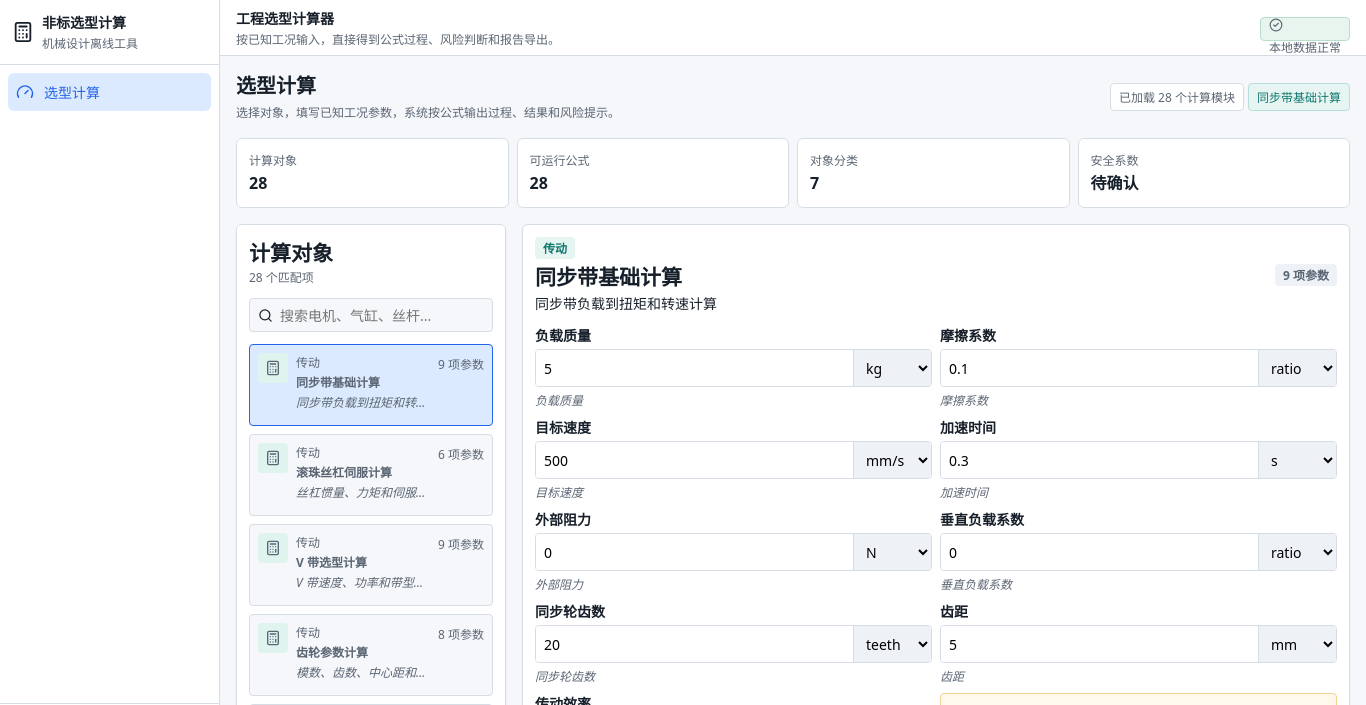
Test: 驱动与线性传动计算 › 在选型计算中完成滚珠丝杠伺服计算且不展示 PDF 来源
Check: the text "本地数据正常" is shown, box [1269,38,1341,56]
Step 1. Type "丝杠" into the field named "搜索计算对象" → (381, 315), box [278,304,484,326]
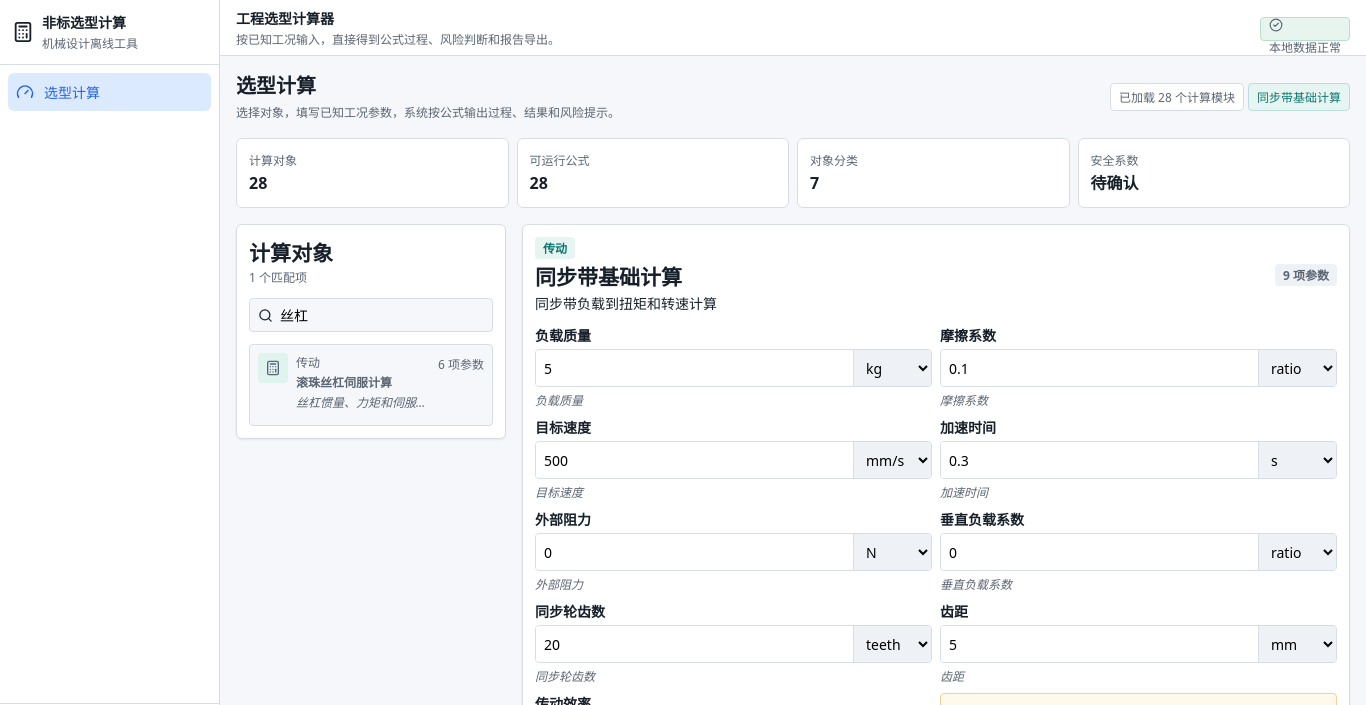
Step 2. Click the button "传动 滚珠丝杠伺服计算 丝杠惯量、力矩和伺服转速 6 项参数" → (371, 385), box [249,344,493,426]
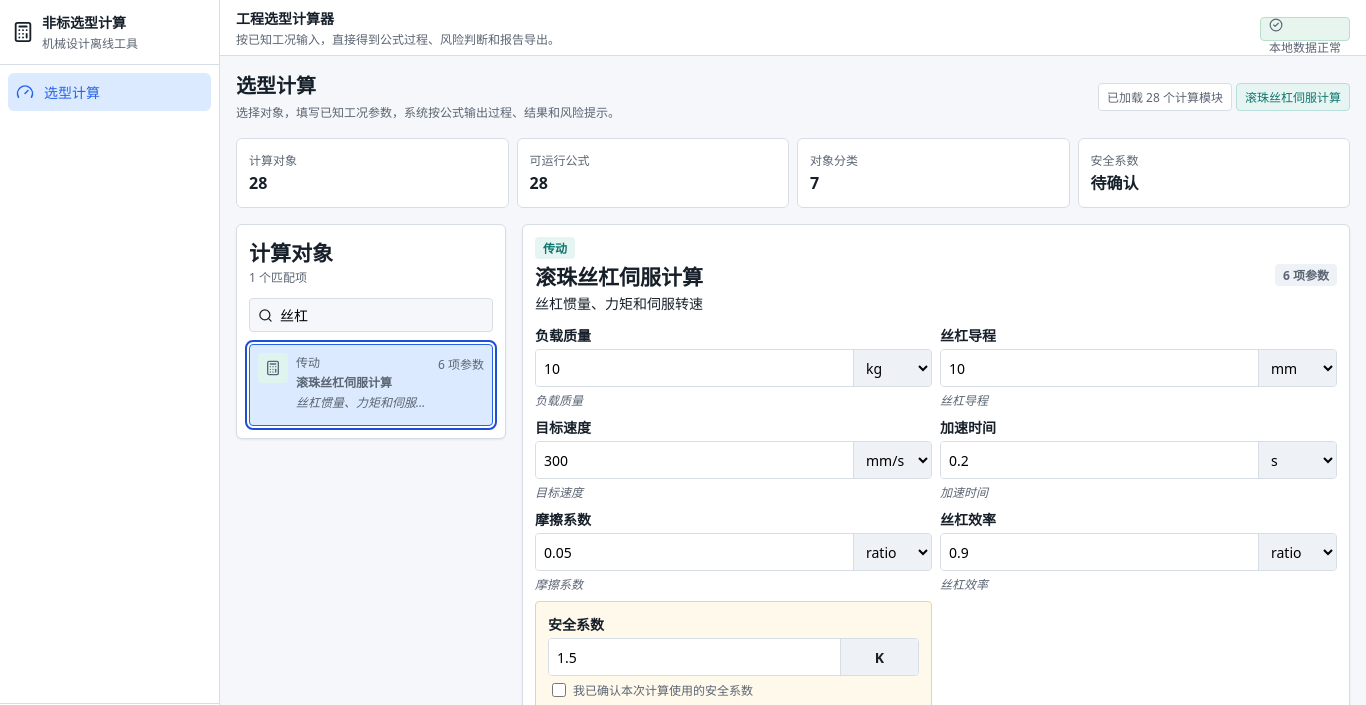
Check: the heading "滚珠丝杠伺服计算" is shown, box [535,261,703,291]
Step 3. Click the checkbox labelled "我已确认本次计算使用的安全系数" → (559, 690), box [552,683,566,697]
(page scrolled)
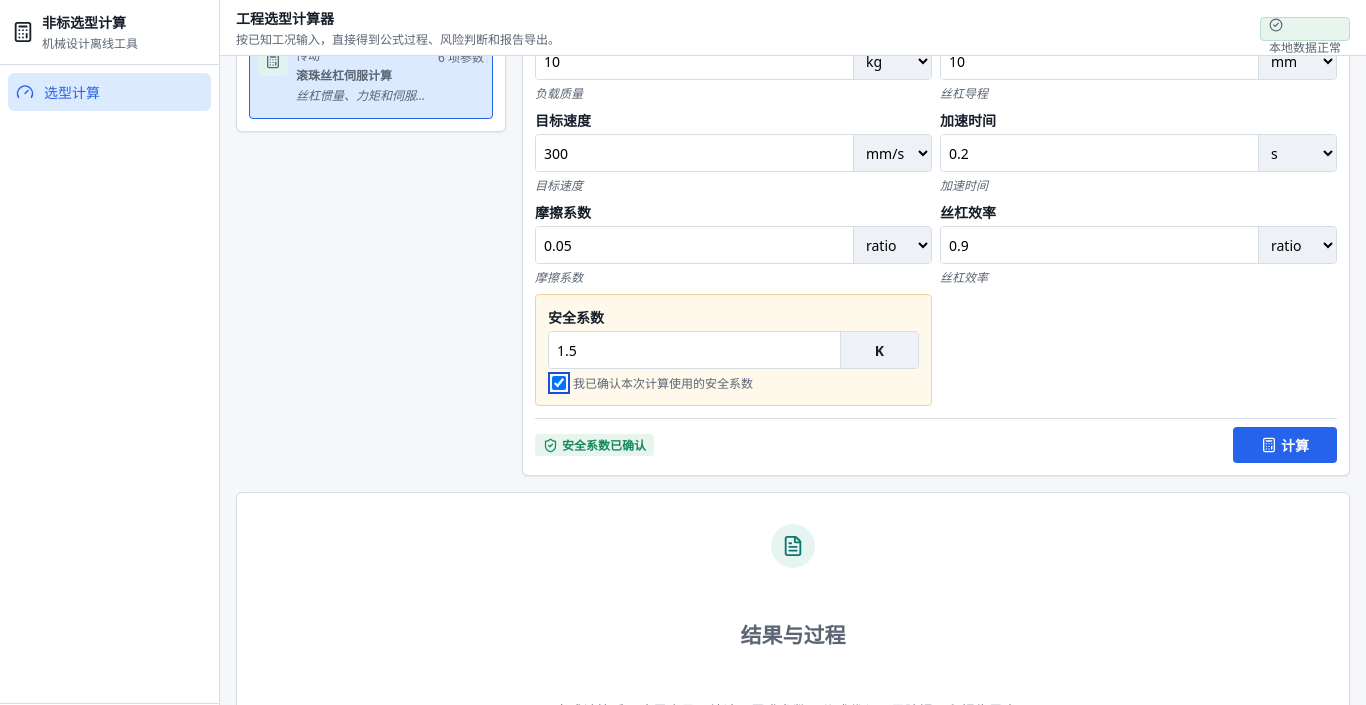
Step 4. Click the button "计算" → (1285, 445), box [1233,427,1337,463]
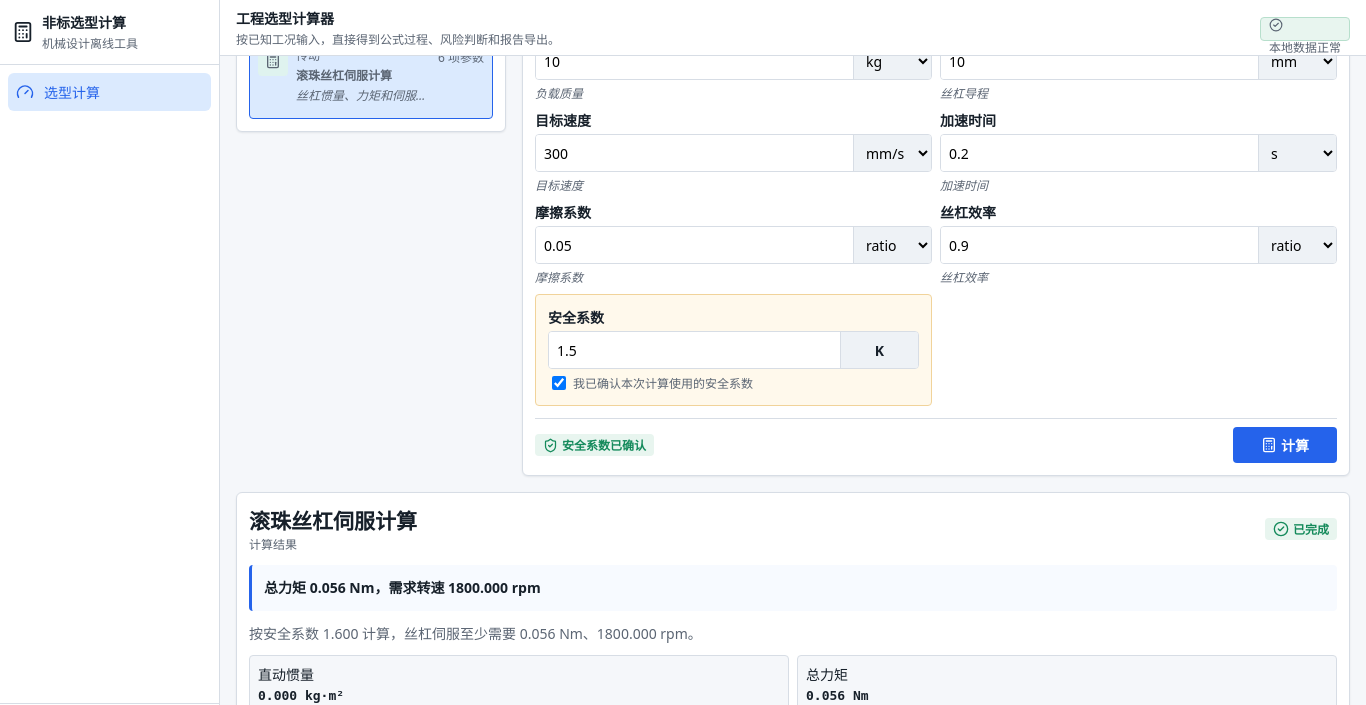
Check: the text "直动惯量" is shown, box [258,665,314,684]
Check: the text "总力矩" is shown, box [806,665,848,684]
Check: the text "总力矩 0.056 Nm，需求转速 1800.000 rpm" is shown, box [249,565,1337,611]
